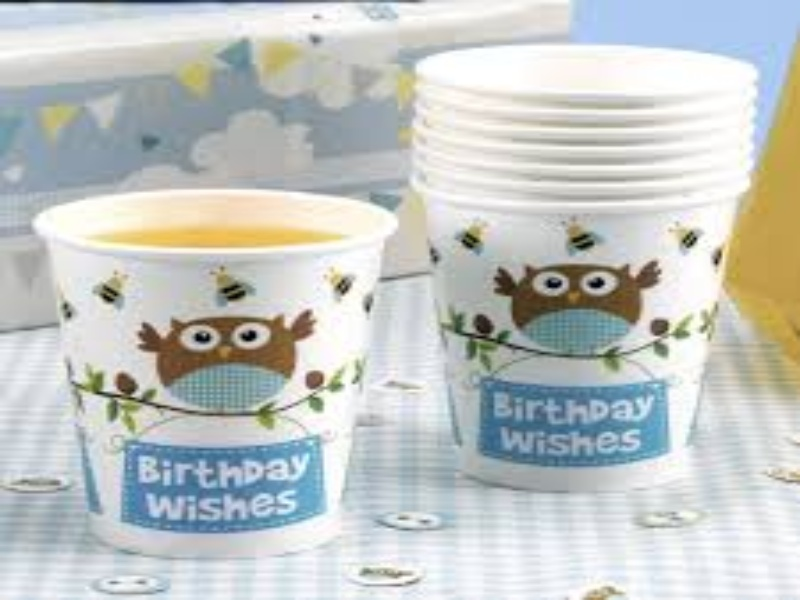cup: (395, 23, 762, 478), (25, 163, 378, 555)
